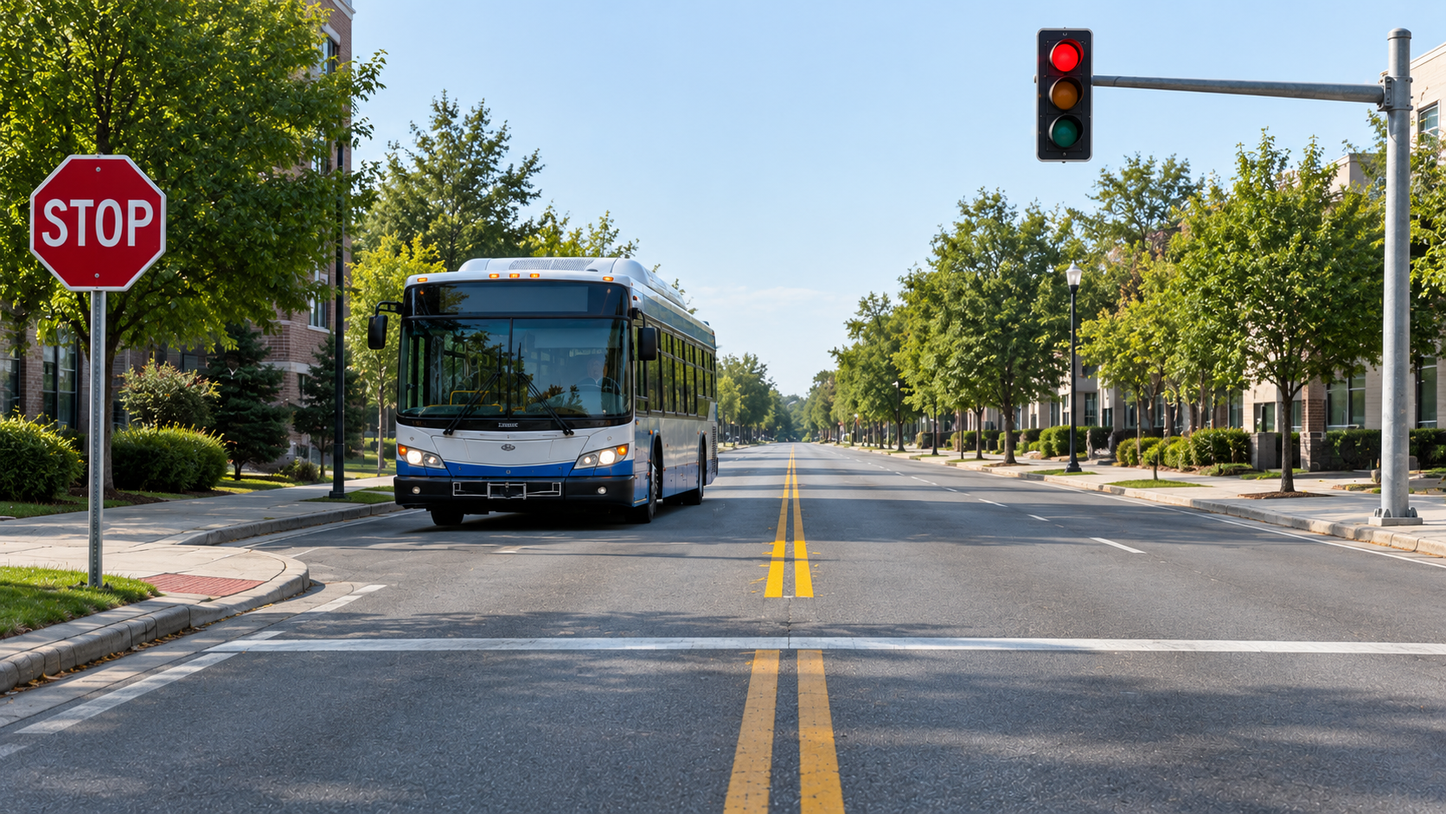stop_sign: (29, 155, 164, 285)
traffic_light: (1038, 27, 1093, 163)
truck: (372, 258, 719, 527)
